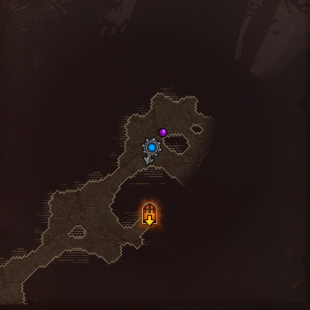Exit: (141, 198, 159, 227)
